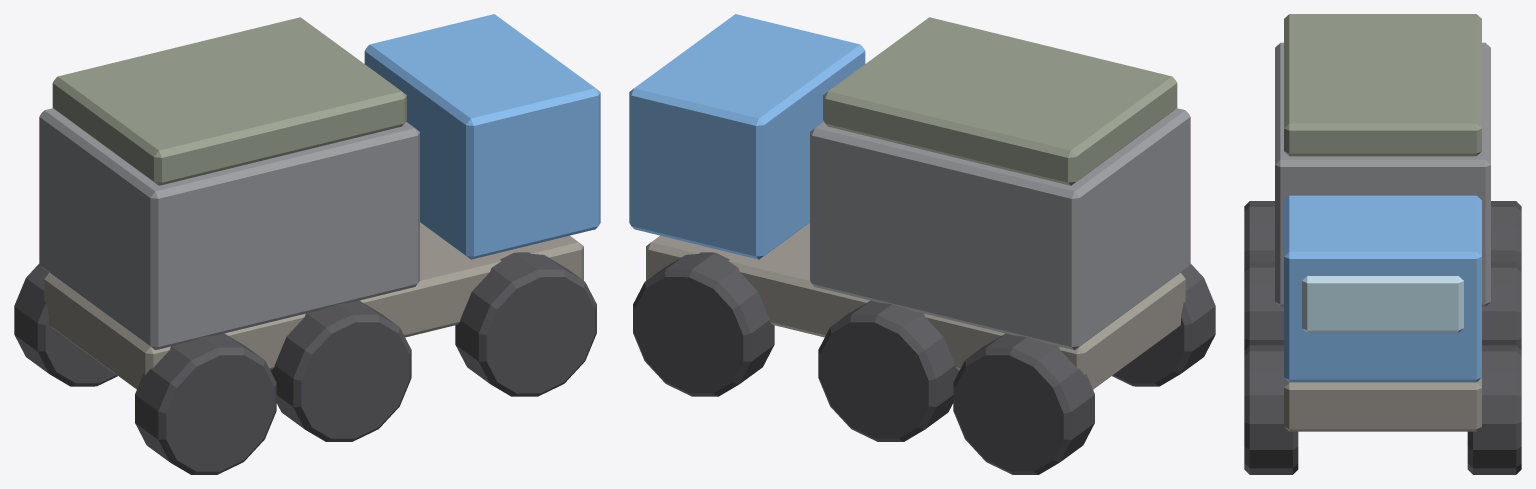
The model's file is supply_truck.glb.
The picture shows the model from 3 angles, left to right: view 1: azimuth 30°, elevation 25°; view 2: azimuth 150°, elevation 25°; view 3: azimuth 270°, elevation 25°; orthographic projection. The views are drawn at different scales.
Visible parts, largest first — view 1: supply_truck; view 2: supply_truck; view 3: supply_truck.
Part boxes in pixels (x1,y1,x2,y2): supply_truck: (14,14,600,474); supply_truck: (629,14,1215,474); supply_truck: (1244,14,1521,474).
Bounding box in the file's own units: 2.8 × 1.8 × 1.54.
